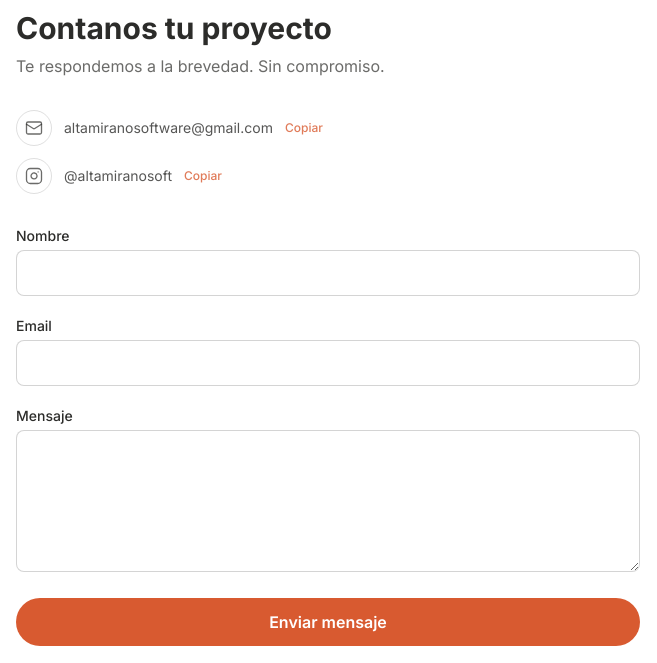
Test case: ContactSection — estados de UI › estado de éxito: muestra el mensaje de agradecimiento y oculta el formulario
The width and height of the screenshot is (657, 663).
Step 1. Type "Axel Altamirano" into the field labelled "Nombre" → [328, 273], box [16,250,640,296]
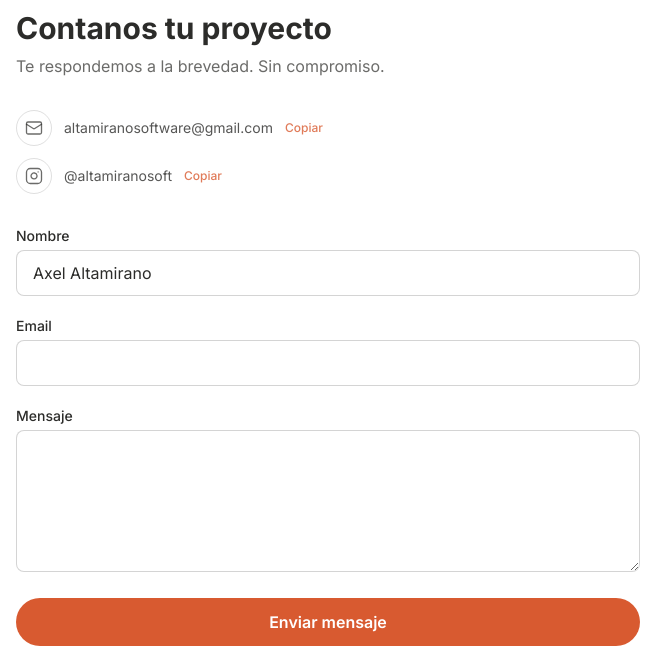
Step 2. Type "axel@example.com" into the field labelled "Email" → [328, 363], box [16,340,640,386]
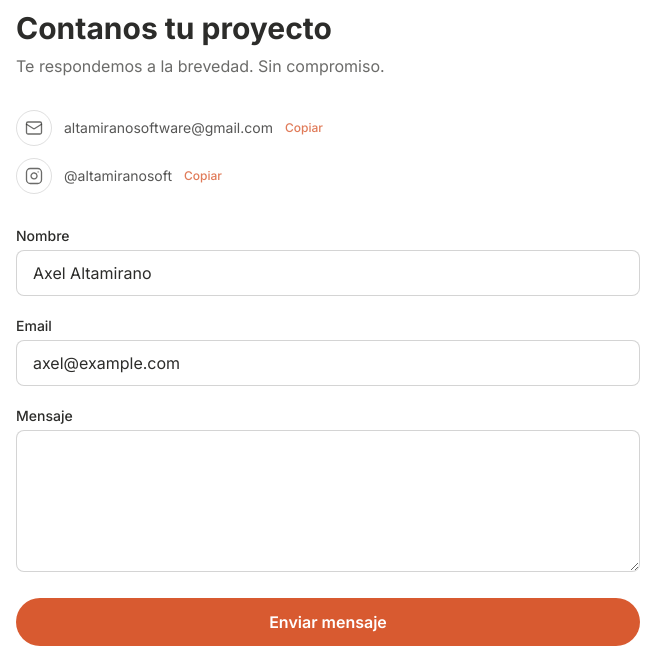
Step 3. Type "Quiero cotizar un sistema para mi negocio." into the text box labelled "Mensaje" → [328, 501], box [16,430,640,572]
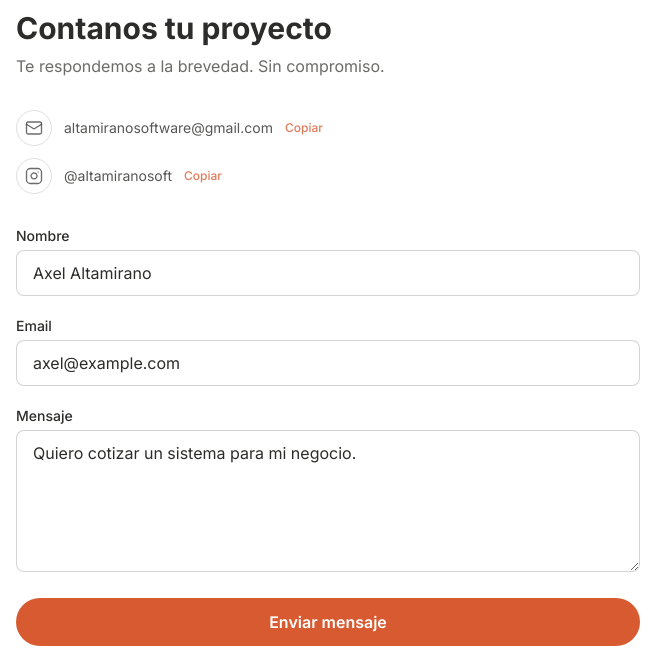
Step 4. Click the button "Enviar mensaje" → [328, 622], box [16,598,640,646]
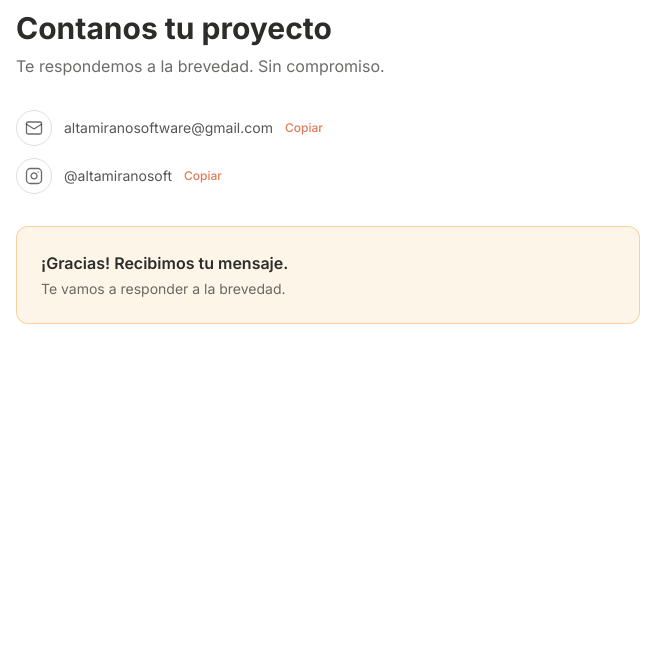
Expected: the message shows "¡Gracias! Recibimos tu mensaje.", [41,253,288,273]
Expected: the button "Enviar mensaje" is gone
